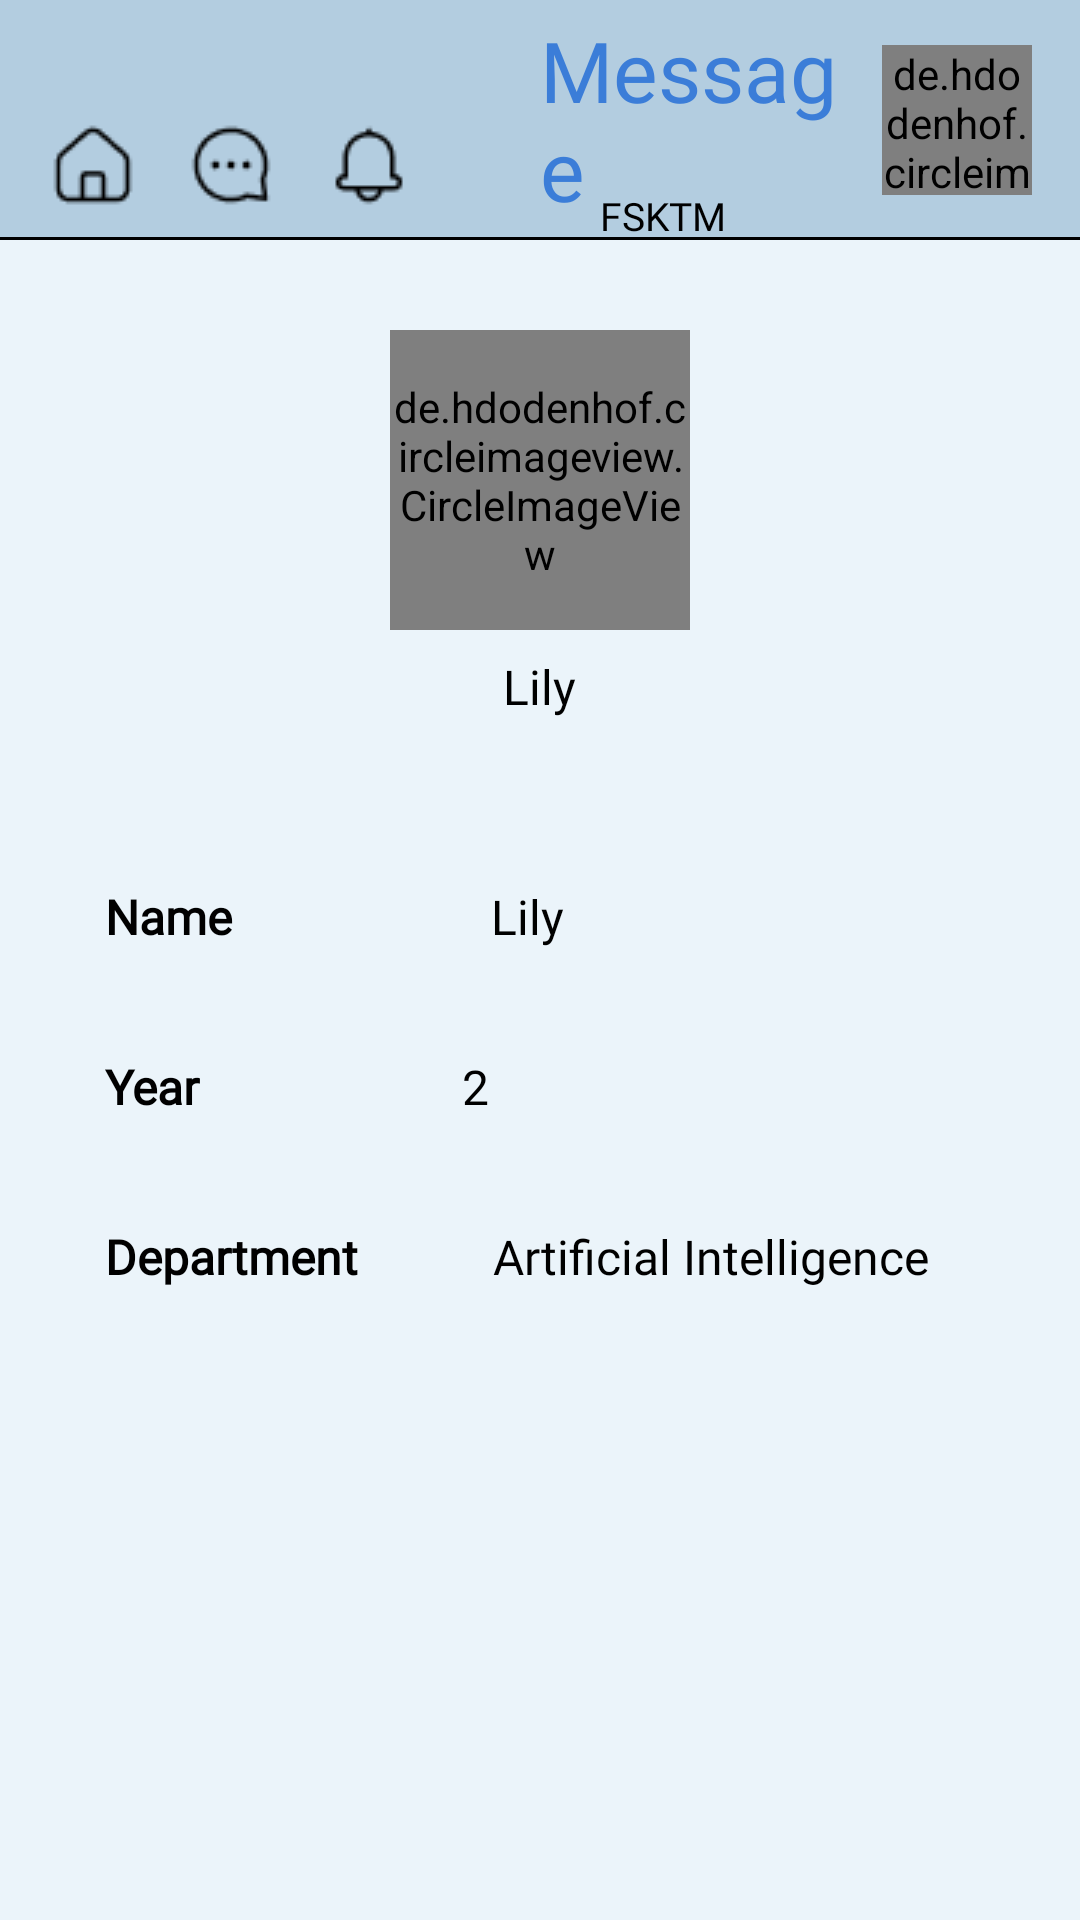

Where icons sit on this 1080px×1920px app screen, as box(x1, y1, x2, y2):
home: box(54, 126, 132, 204)
messenger: box(192, 126, 270, 204)
notification: box(335, 127, 403, 204)
